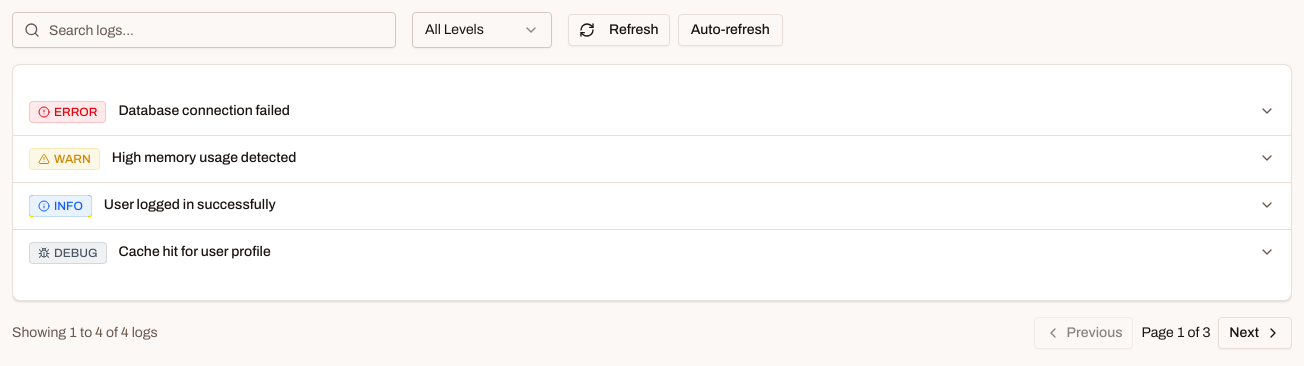
it: components/admin/logs-viewer › pagination functionality › should disable pagination buttons while loading
Note: Click next button
What coordinates should you click on to do the following:
click the button "Next"
I would click on:
 (1255, 333)
Its box is [1218,317,1292,349].
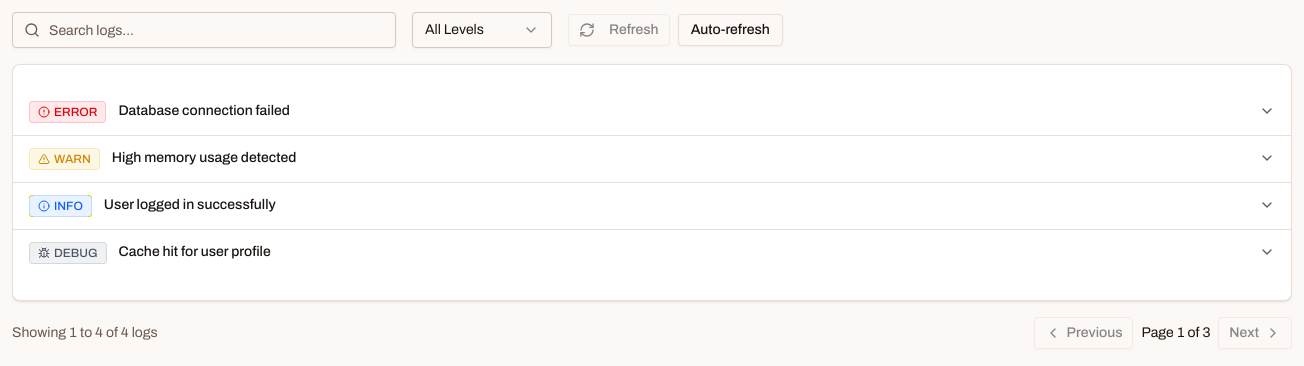
Expected: the button "Previous" is disabled, [1034,317,1134,349]
Result: the button "Next" is disabled at [1218,317,1292,349]
